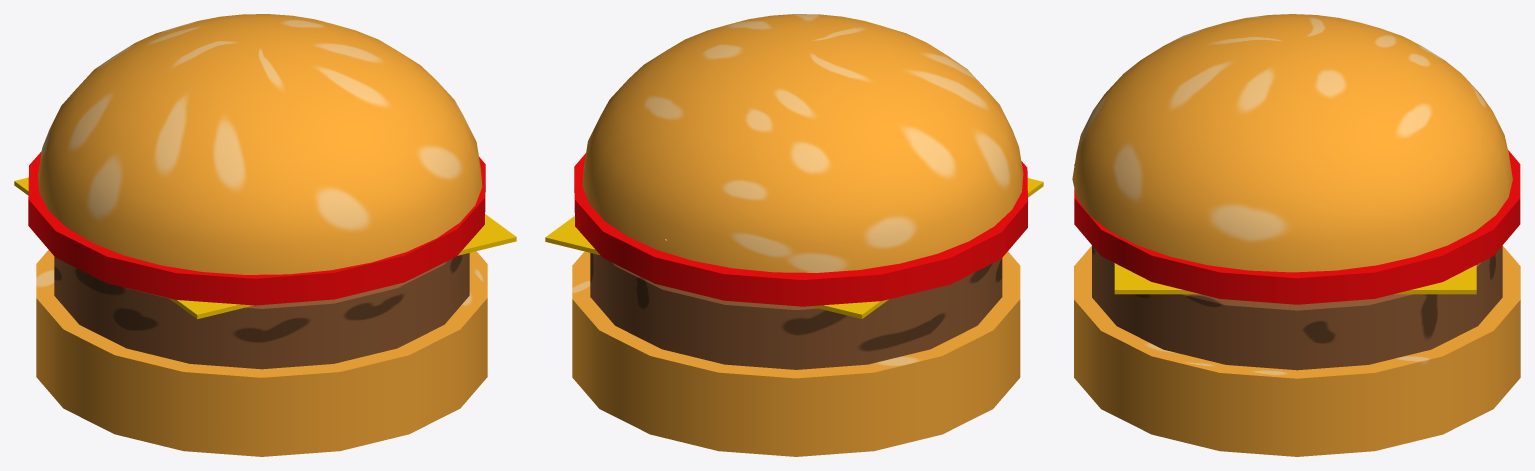
Rendered from Burger.fbx.
3 views of the same model, side by side, from view 1: azimuth 30°, elevation 25°; view 2: azimuth 150°, elevation 25°; view 3: azimuth 270°, elevation 25° (orthographic).
Parts seen in each view (by area): view 1: Sphere001, Cylinder001, Cylinder002, Cylinder003, Box001; view 2: Sphere001, Cylinder001, Cylinder002, Cylinder003, Box001; view 3: Sphere001, Cylinder001, Cylinder002, Cylinder003, Box001.
Boxes of the visible parts, x1,y1,x2,y2 form: Sphere001: [38, 14, 482, 274]; Cylinder001: [36, 249, 487, 456]; Cylinder002: [54, 253, 469, 369]; Cylinder003: [28, 151, 485, 305]; Box001: [14, 177, 516, 319]; Sphere001: [582, 14, 1023, 272]; Cylinder001: [572, 251, 1020, 456]; Cylinder002: [590, 253, 1002, 369]; Cylinder003: [574, 153, 1027, 306]; Box001: [545, 178, 1043, 318]; Sphere001: [1072, 14, 1512, 272]; Cylinder001: [1074, 246, 1520, 456]; Cylinder002: [1092, 245, 1502, 370]; Cylinder003: [1074, 150, 1520, 304]; Box001: [1114, 263, 1476, 294].
Bounding box in the file's own units: 20.04 × 15.13 × 19.42.
